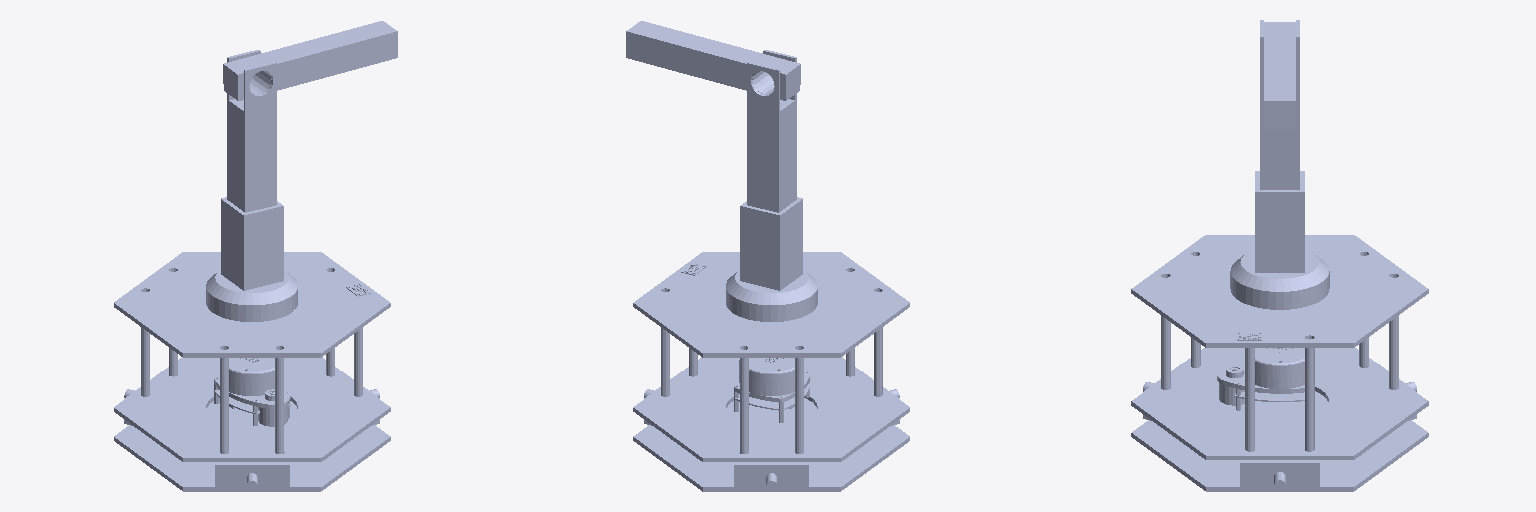
The robot description file, URDF, robot "gk_ros":
<?xml version="1.0" encoding="utf-8"?>
<!-- This URDF was automatically created by SolidWorks to URDF Exporter! Originally created by [author] ([email redacted]) 
     Commit Version: 1.6.0-4-g7f85cfe  Build Version: 1.6.7995.38578
     For more information, please see http://wiki.ros.org/sw_urdf_exporter -->
<robot
  name="gk_ros">
  <link
    name="base_link">
    <inertial>
      <origin
        xyz="-6.17023024390706E-06 -0.00105741269224527 0.0870211576509982"
        rpy="0 0 0" />
      <mass
        value="1.34143477505957" />
      <inertia
        ixx="0.00439940782903039"
        ixy="1.39597928220502E-17"
        ixz="4.34715898494339E-19"
        iyy="0.00439940782903034"
        iyz="-7.58941520739852E-19"
        izz="0.00844608250553473" />
    </inertial>
    <visual>
      <origin
        xyz="0 0 0"
        rpy="0 0 0" />
      <geometry>
        <mesh
          filename="package://gk_ros/meshes/base_link.STL" />
      </geometry>
      <material
        name="">
        <color
          rgba="0.792156862745098 0.819607843137255 0.933333333333333 1" />
      </material>
    </visual>
    <collision>
      <origin
        xyz="0 0 0"
        rpy="0 0 0" />
      <geometry>
        <mesh
          filename="package://gk_ros/meshes/base_link.STL" />
      </geometry>
    </collision>
  </link>
  <link
    name="lidar_link">
    <inertial>
      <origin
        xyz="-0.00020783 -0.0067665 -0.022432"
        rpy="0 0 0" />
      <mass
        value="2.3308" />
      <inertia
        ixx="0.0009607"
        ixy="8.0198E-07"
        ixz="-3.0916E-06"
        iyy="0.00061492"
        iyz="-0.00015824"
        izz="0.0010982" />
    </inertial>
    <visual>
      <origin
        xyz="0 0 0"
        rpy="0 0 0" />
      <geometry>
        <mesh
          filename="package://gk_ros/meshes/lidar_link.STL" />
      </geometry>
      <material
        name="">
        <color
          rgba="0.79216 0.81961 0.93333 1" />
      </material>
    </visual>
    <collision>
      <origin
        xyz="0 0 0"
        rpy="0 0 0" />
      <geometry>
        <mesh
          filename="package://gk_ros/meshes/lidar_link.STL" />
      </geometry>
    </collision>
  </link>
  <joint
    name="lidar_joint"
    type="fixed">
    <origin
      xyz="0.00011192 -0.0010544 0.097671"
      rpy="0 0 0" />
    <parent
      link="base_link" />
    <child
      link="lidar_link" />
    <axis
      xyz="0 0 0" />
  </joint>
  <link
    name="imu_link">
    <inertial>
      <origin
        xyz="0.00019007 0.0002828 0.00065665"
        rpy="0 0 0" />
      <mass
        value="0.00049163" />
      <inertia
        ixx="2.6074E-08"
        ixy="1.2056E-10"
        ixz="-1.0304E-10"
        iyy="1.0522E-08"
        iyz="-8.6852E-11"
        izz="3.636E-08" />
    </inertial>
    <visual>
      <origin
        xyz="0 0 0"
        rpy="0 0 0" />
      <geometry>
        <mesh
          filename="package://gk_ros/meshes/imu_link.STL" />
      </geometry>
      <material
        name="">
        <color
          rgba="0.79216 0.81961 0.93333 1" />
      </material>
    </visual>
    <collision>
      <origin
        xyz="0 0 0"
        rpy="0 0 0" />
      <geometry>
        <mesh
          filename="package://gk_ros/meshes/imu_link.STL" />
      </geometry>
    </collision>
  </link>
  <joint
    name="imu_joint"
    type="fixed">
    <origin
      xyz="0.11546 -0.03193 0.16497"
      rpy="0 0 0" />
    <parent
      link="base_link" />
    <child
      link="imu_link" />
    <axis
      xyz="0 0 0" />
  </joint>
  <link
    name="banhtruoc_link">
    <inertial>
      <origin
        xyz="-5.487E-06 1.8041E-15 0"
        rpy="0 0 0" />
      <mass
        value="0.037821" />
      <inertia
        ixx="5.1981E-06"
        ixy="-9.7638E-21"
        ixz="1.3996E-23"
        iyy="2.8505E-06"
        iyz="-4.1822E-21"
        izz="2.8505E-06" />
    </inertial>
    <visual>
      <origin
        xyz="0 0 0"
        rpy="0 0 0" />
      <geometry>
        <mesh
          filename="package://gk_ros/meshes/banhtruoc_link.STL" />
      </geometry>
      <material
        name="">
        <color
          rgba="0.75294 0.75294 0.75294 1" />
      </material>
    </visual>
    <collision>
      <origin
        xyz="0 0 0"
        rpy="0 0 0" />
      <geometry>
        <mesh
          filename="package://gk_ros/meshes/banhtruoc_link.STL" />
      </geometry>
    </collision>
  </link>
  <joint
    name="banhtruoc_joint"
    type="continuous">
    <origin
      xyz="0.16434 -0.0010544 0.018863"
      rpy="0 0 0" />
    <parent
      link="base_link" />
    <child
      link="banhtruoc_link" />
    <axis
      xyz="-1 0 0" />
    <limit
      effort="20"
      velocity="20" />
    <dynamics
      damping="0"
      friction="0.1" />
  </joint>
  <link
    name="banhtrai_link">
    <inertial>
      <origin
        xyz="-1.6653E-15 -5.487E-06 -2.7756E-17"
        rpy="0 0 0" />
      <mass
        value="0.037821" />
      <inertia
        ixx="2.8505E-06"
        ixy="-7.4115E-22"
        ixz="1.3631E-21"
        iyy="5.1981E-06"
        iyz="-2.6442E-21"
        izz="2.8505E-06" />
    </inertial>
    <visual>
      <origin
        xyz="0 0 0"
        rpy="0 0 0" />
      <geometry>
        <mesh
          filename="package://gk_ros/meshes/banhtrai_link.STL" />
      </geometry>
      <material
        name="">
        <color
          rgba="0.75294 0.75294 0.75294 1" />
      </material>
    </visual>
    <collision>
      <origin
        xyz="0 0 0"
        rpy="0 0 0" />
      <geometry>
        <mesh
          filename="package://gk_ros/meshes/banhtrai_link.STL" />
      </geometry>
    </collision>
  </link>
  <joint
    name="banhtrai_joint"
    type="continuous">
    <origin
      xyz="-0.082178 0.14127 0.018863"
      rpy="0 0 0.5236" />
    <parent
      link="base_link" />
    <child
      link="banhtrai_link" />
    <axis
      xyz="0 -1 0" />
    <limit
      effort="20"
      velocity="20" />
    <dynamics
      damping="0"
      friction="0.1" />
  </joint>
  <link
    name="banhphai_link">
    <inertial>
      <origin
        xyz="1.6098E-15 5.487E-06 0"
        rpy="0 0 0" />
      <mass
        value="0.037821" />
      <inertia
        ixx="2.8505E-06"
        ixy="-6.3527E-22"
        ixz="-3.1388E-21"
        iyy="5.1981E-06"
        iyz="-1.0517E-21"
        izz="2.8505E-06" />
    </inertial>
    <visual>
      <origin
        xyz="0 0 0"
        rpy="0 0 0" />
      <geometry>
        <mesh
          filename="package://gk_ros/meshes/banhphai_link.STL" />
      </geometry>
      <material
        name="">
        <color
          rgba="0.75294 0.75294 0.75294 1" />
      </material>
    </visual>
    <collision>
      <origin
        xyz="0 0 0"
        rpy="0 0 0" />
      <geometry>
        <mesh
          filename="package://gk_ros/meshes/banhphai_link.STL" />
      </geometry>
    </collision>
  </link>
  <joint
    name="banhphai_joint"
    type="continuous">
    <origin
      xyz="-0.082178 -0.14338 0.018863"
      rpy="0 0 -0.5236" />
    <parent
      link="base_link" />
    <child
      link="banhphai_link" />
    <axis
      xyz="0 1 0" />
    <limit
      effort="20"
      velocity="20" />
    <dynamics
      damping="0"
      friction="0.1" />
  </joint>
  <link
    name="prismatic_link">
    <inertial>
      <origin
        xyz="-4.4976E-05 -4.4976E-05 0.14887"
        rpy="0 0 0" />
      <mass
        value="0.25035" />
      <inertia
        ixx="0.00058192"
        ixy="5.5997E-22"
        ixz="3.7843E-20"
        iyy="0.00058037"
        iyz="1.4569E-19"
        izz="6.9181E-05" />
    </inertial>
    <visual>
      <origin
        xyz="0 0 0"
        rpy="0 0 0" />
      <geometry>
        <mesh
          filename="package://gk_ros/meshes/prismatic_link.STL" />
      </geometry>
      <material
        name="">
        <color
          rgba="0.79216 0.81961 0.93333 1" />
      </material>
    </visual>
    <collision>
      <origin
        xyz="0 0 0"
        rpy="0 0 0" />
      <geometry>
        <mesh
          filename="package://gk_ros/meshes/prismatic_link.STL" />
      </geometry>
    </collision>
  </link>
  <joint
    name="prismatic_joint"
    type="prismatic">
    <origin
      xyz="0 -0.0010544 0.18497"
      rpy="0 0 0" />
    <parent
      link="base_link" />
    <child
      link="prismatic_link" />
    <axis
      xyz="0 0 -1" />
    <limit
      lower="0"
      upper="0.1"
      effort="10"
      velocity="1" />
    <dynamics
      damping="0"
      friction="1" />
  </joint>
  <link
    name="revolute_link">
    <inertial>
      <origin
        xyz="0.082195 7.612E-15 0.0021657"
        rpy="0 0 0" />
      <mass
        value="0.18218" />
      <inertia
        ixx="3.2117E-05"
        ixy="-3.1662E-18"
        ixz="-1.3933E-05"
        iyy="0.00056156"
        iyz="-1.0763E-19"
        izz="0.00056054" />
    </inertial>
    <visual>
      <origin
        xyz="0 0 0"
        rpy="0 0 0" />
      <geometry>
        <mesh
          filename="package://gk_ros/meshes/revolute_link.STL" />
      </geometry>
      <material
        name="">
        <color
          rgba="0.79216 0.81961 0.93333 1" />
      </material>
    </visual>
    <collision>
      <origin
        xyz="0 0 0"
        rpy="0 0 0" />
      <geometry>
        <mesh
          filename="package://gk_ros/meshes/revolute_link.STL" />
      </geometry>
    </collision>
  </link>
  <joint
    name="revolute_joint"
    type="revolute">
    <origin
      xyz="-4.4976E-05 -4.4976E-05 0.24991"
      rpy="0 0 0" />
    <parent
      link="prismatic_link" />
    <child
      link="revolute_link" />
    <axis
      xyz="0 1 0" />
    <limit
      lower="-3.14"
      upper="0"
      effort="10"
      velocity="1" />
    <dynamics
      damping="0"
      friction="0.1" />
  </joint>
    
   



   <gazebo>
  <plugin name="gazebo_ros_control" filename="libgazebo_ros_control.so"/>
</gazebo>
      
       <gazebo reference="lidar_link">
   <sensor type="ray" name="lidar_sensor">
     <pose>0 0 0 0 0 0</pose>
     <visualize>true</visualize>
     <update_rate>30</update_rate>
     <ray>
    <scan>
      <horizontal>
        <samples>720</samples>
        <resolution>1</resolution>
        <min_angle>-1.5708</min_angle>
        <max_angle>1.5708</max_angle>
      </horizontal>
    </scan>
    <range>
      <min>0.1</min>
      <max>30.0</max>
      <resolution>0.01</resolution>
    </range>
    <noise>
      <type>gaussian</type>
      <mean>0.0</mean>
      <stddev>0.01</stddev>
    </noise>
     </ray>
     <plugin name="gazebo_ros_laser" filename="libgazebo_ros_laser.so">
    <topicName>/scan</topicName>
    <frameName>lidar_link</frameName>
     </plugin>
   </sensor>
    </gazebo>
      
      
   <gazebo reference="imu_link">
    <gravity>true</gravity>
    <sensor name="imu_sensor" type="imu">
      <always_on>true</always_on>
      <update_rate>100</update_rate>
      <visualize>true</visualize>
      <topic>__default_topic__</topic>
      <plugin filename="libgazebo_ros_imu_sensor.so" name="imu_plugin">
        <topicName>imu</topicName>
        <bodyName>imu_link</bodyName>
        <updateRateHZ>10.0</updateRateHZ>
        <gaussianNoise>0.0</gaussianNoise>
        <xyzOffset>0 0 0</xyzOffset>
        <rpyOffset>0 0 0</rpyOffset>
        <frameName>imu_link</frameName>
        <initialOrientationAsReference>false</initialOrientationAsReference>
      </plugin>
      <pose>0 0 0 0 0 0</pose>
    </sensor>
  </gazebo>

<transmission name="left_wheel_trans">
    <type>transmission_interface/SimpleTransmission</type>
    <joint name="banhtrai_joint">
      <hardwareInterface>hardware_interface/VelocityJointInterface</hardwareInterface>
    </joint>
    <actuator name="left_wheel_motor">
      <mechanicalReduction>1</mechanicalReduction>
    </actuator>
  </transmission>

  <transmission name="right_wheel_trans">
    <type>transmission_interface/SimpleTransmission</type>
    <joint name="banhphai_joint">
      <hardwareInterface>hardware_interface/VelocityJointInterface</hardwareInterface>
    </joint>
    <actuator name="right_wheel_motor">
      <mechanicalReduction>1</mechanicalReduction>
    </actuator>
  </transmission>

  <transmission name="front_wheel_trans">
    <type>transmission_interface/SimpleTransmission</type>
    <joint name="banhtruoc_joint">
      <hardwareInterface>hardware_interface/VelocityJointInterface</hardwareInterface>
    </joint>
    <actuator name="front_wheel_motor">
      <mechanicalReduction>1</mechanicalReduction>
    </actuator>
  </transmission>
  
 <transmission name="arm_1_trans">
  <type>transmission_interface/SimpleTransmission</type>
  <joint name="prismatic_joint">
    <hardwareInterface>hardware_interface/PositionJointInterface</hardwareInterface>
  </joint>
  <actuator name="arm_1_motor">
    <mechanicalReduction>1</mechanicalReduction>
  </actuator>
</transmission>

<transmission name="arm_2_trans">
  <type>transmission_interface/SimpleTransmission</type>
  <joint name="revolute_joint">
    <hardwareInterface>hardware_interface/PositionJointInterface</hardwareInterface>
  </joint>
  <actuator name="arm_2_motor">
    <mechanicalReduction>1</mechanicalReduction>
  </actuator>
</transmission>

</robot>

--- What the picture shows (computed from the rendered views, not written in the file) ---
Views: 3 orthographic renders of the robot side by side, from view 1: azimuth 30°, elevation 25°; view 2: azimuth 150°, elevation 25°; view 3: azimuth 270°, elevation 25°.
Robot: gk_ros — 8 links, 7 joints (1 revolute, 3 continuous, 1 prismatic, 2 fixed); root link base_link; default pose: every joint at zero.
Visible links, largest first — view 1: base_link, revolute_link, prismatic_link, lidar_link; view 2: base_link, revolute_link, prismatic_link, lidar_link; view 3: base_link, lidar_link, revolute_link, prismatic_link.
Link boxes in pixels (left/top/right/bottom): base_link: left=114, top=197, right=390, bottom=491; revolute_link: left=223, top=21, right=397, bottom=100; prismatic_link: left=227, top=50, right=276, bottom=212; lidar_link: left=214, top=358, right=290, bottom=426; base_link: left=633, top=197, right=909, bottom=491; revolute_link: left=626, top=21, right=800, bottom=100; prismatic_link: left=747, top=50, right=796, bottom=212; lidar_link: left=734, top=358, right=809, bottom=422; base_link: left=1131, top=171, right=1428, bottom=491; lidar_link: left=1217, top=348, right=1304, bottom=410; revolute_link: left=1264, top=22, right=1295, bottom=129; prismatic_link: left=1260, top=20, right=1299, bottom=189.
Bounding box of the posed robot: 0.3034 × 0.3 × 0.4555 m (x, y, z).
Meshes: 8 distinct files referenced, 5 mesh visuals loaded (5 binary STL); not drawn: 3 (reference not matched to a file when rendering).
